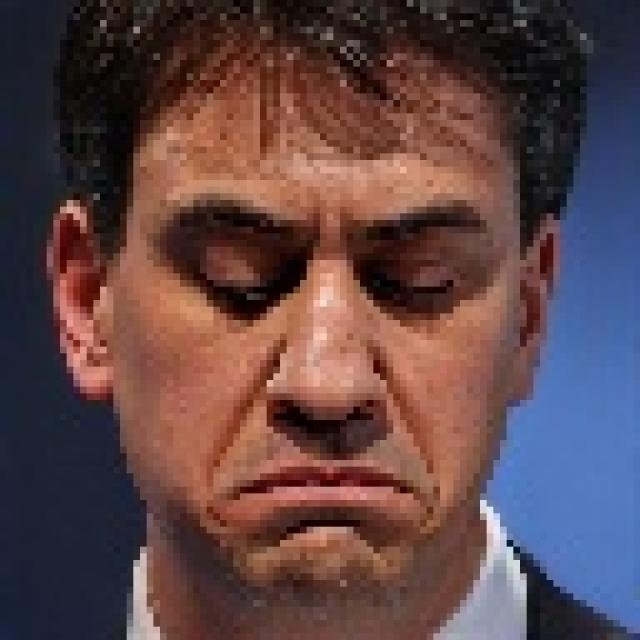sad: (104, 68, 546, 619)
